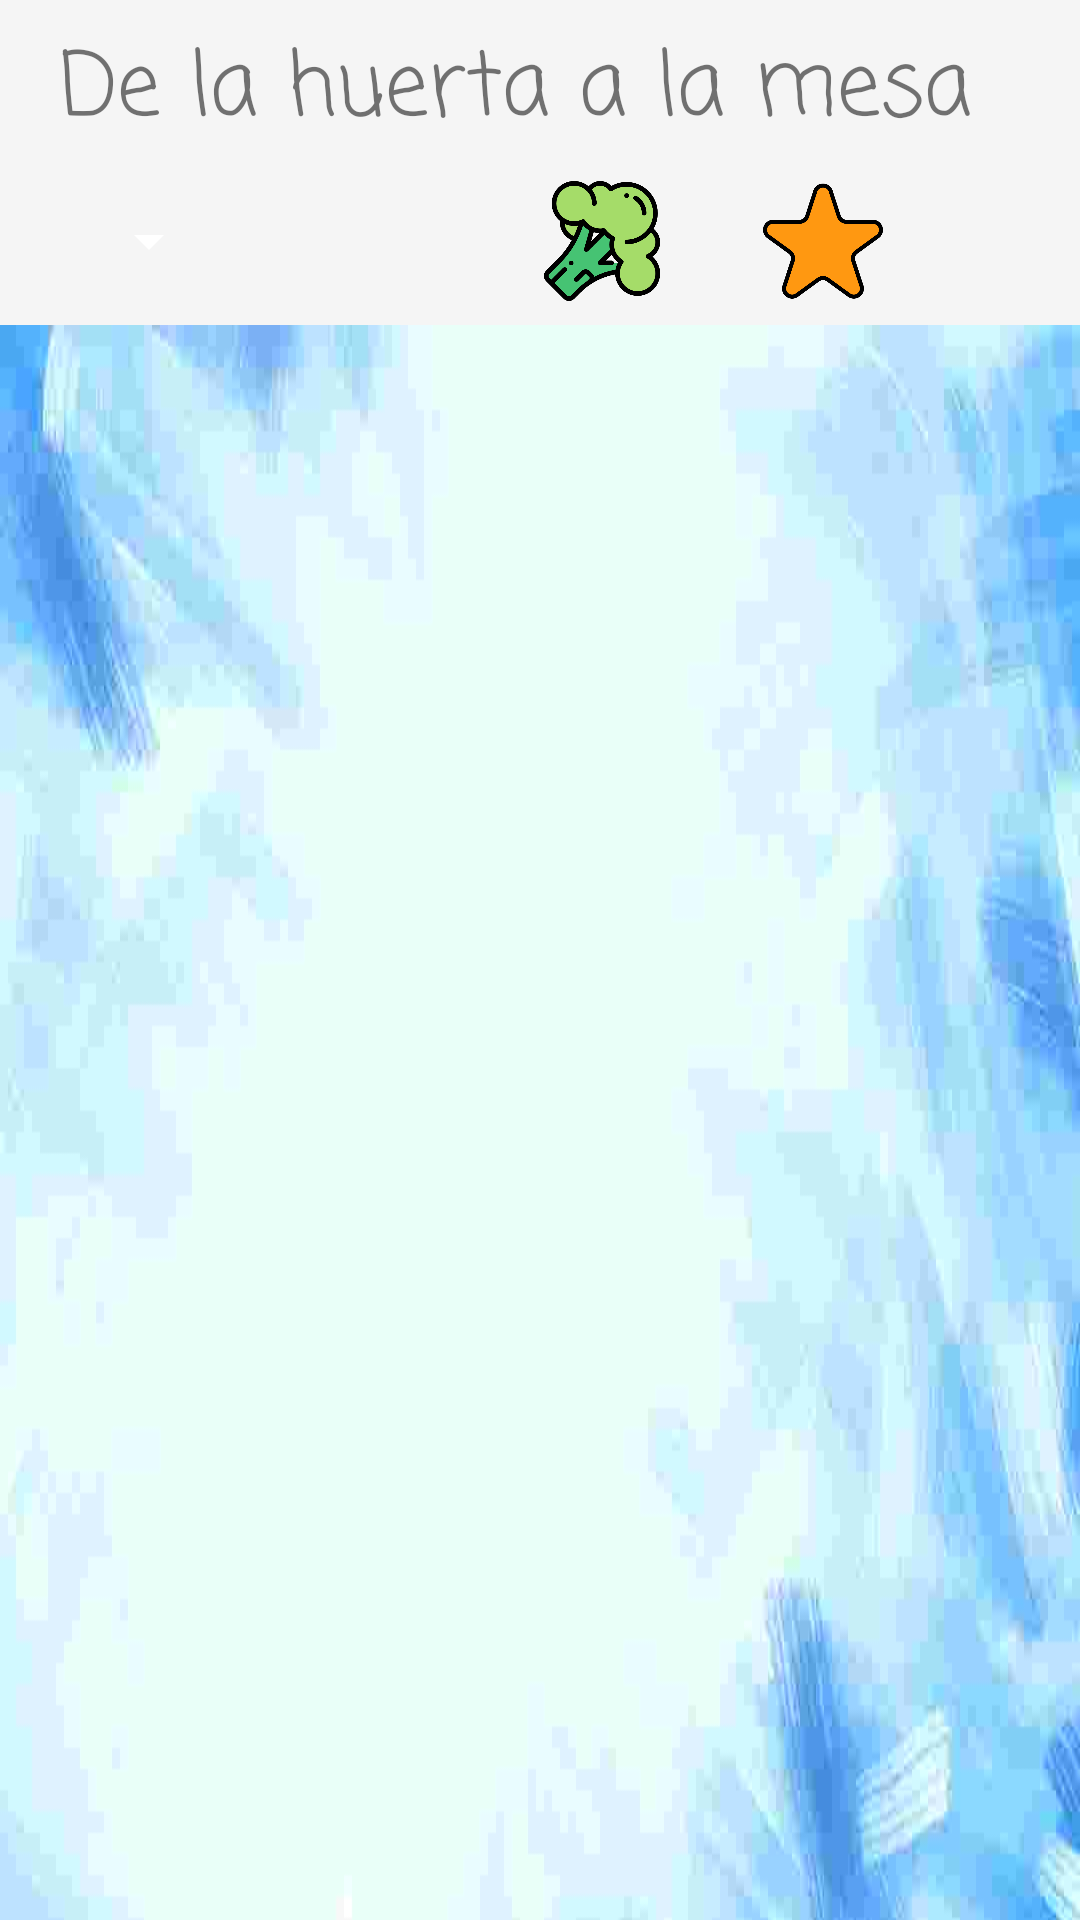

Point at icon controls on the screen. Image size 1080px×1920px, points as (x=x, y=y).
star on: (x=823, y=241)
vegetables: (x=602, y=241)
